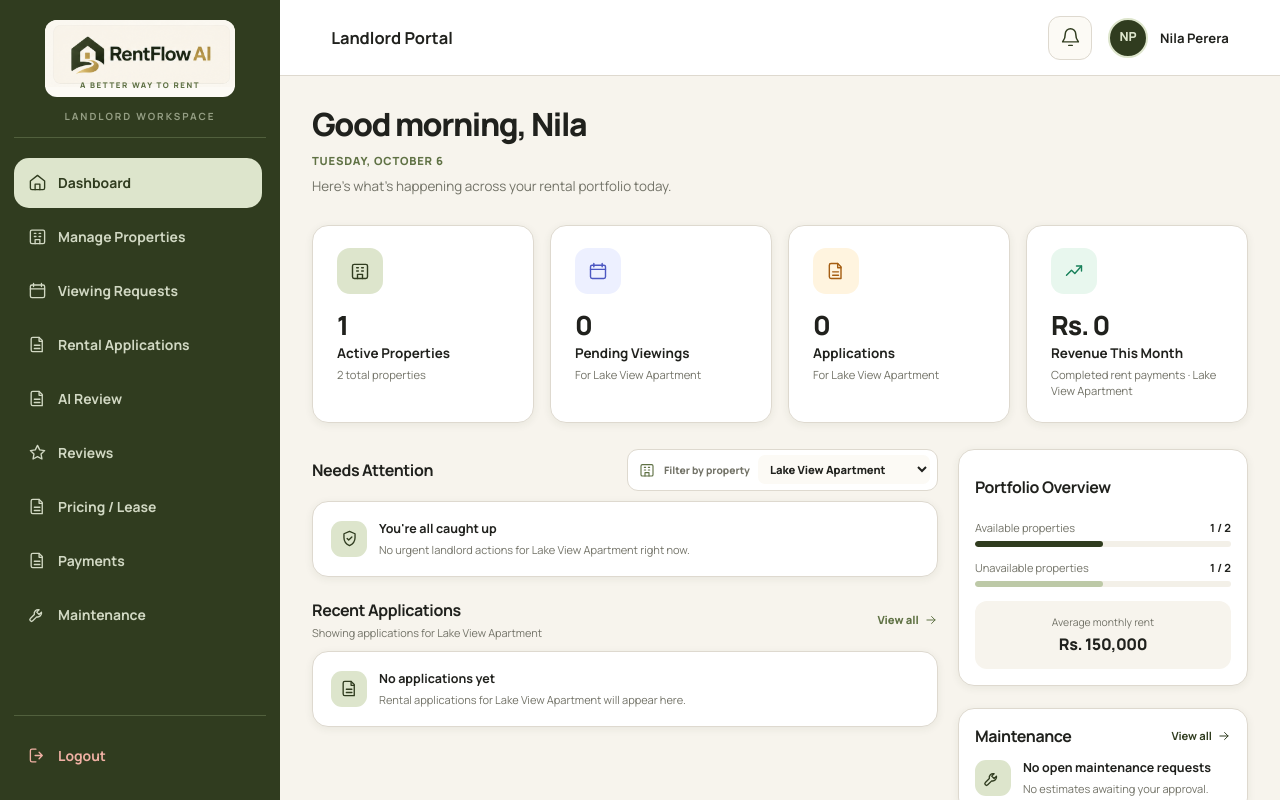
Scenario: landlord dashboard redesign › changes the selected property from the dashboard selector and reloads only scoped endpoints
The width and height of the screenshot is (1280, 800).
Select "Garden House" in the dropdown named "Filter dashboard by property": (844, 470) [758, 455, 930, 484]
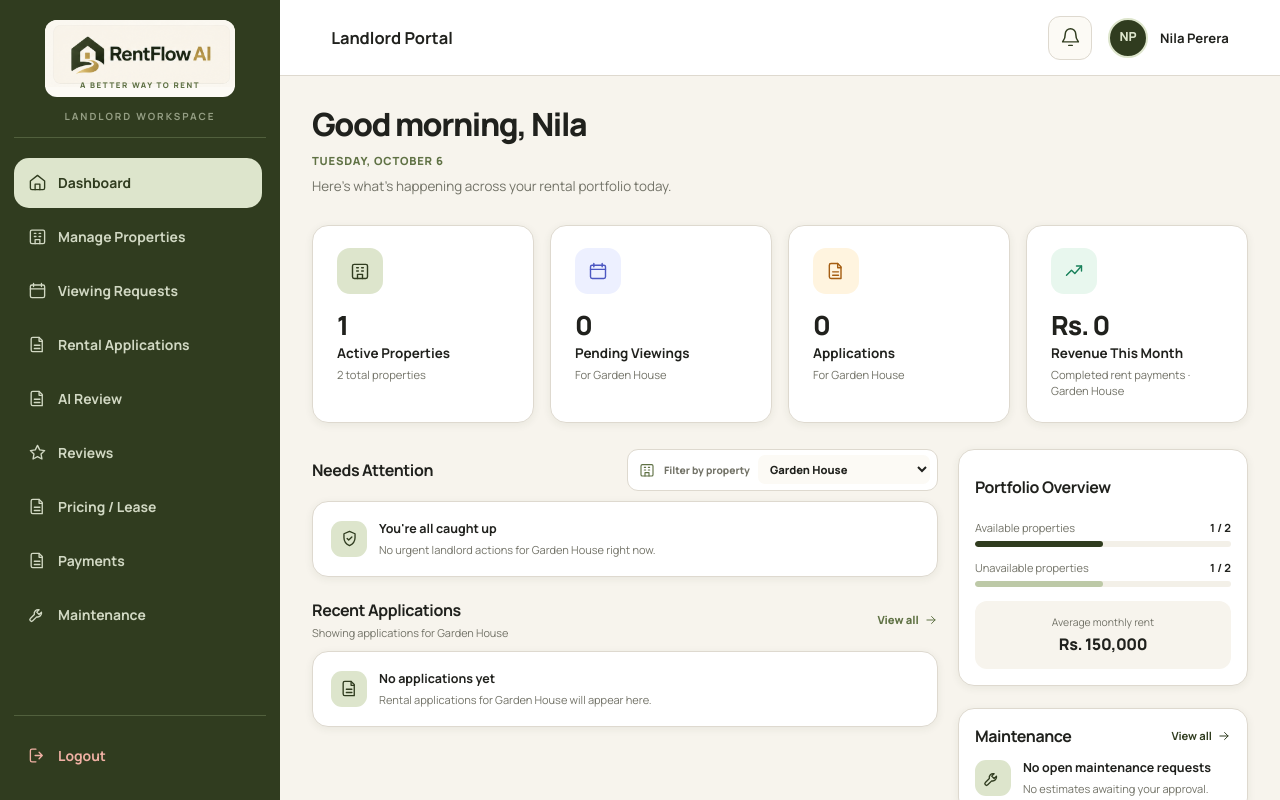
Expected: the 2nd text "0" is shown, [813, 312, 830, 338]
Result: the 2nd text "For Garden House" is shown at [813, 367, 905, 383]
